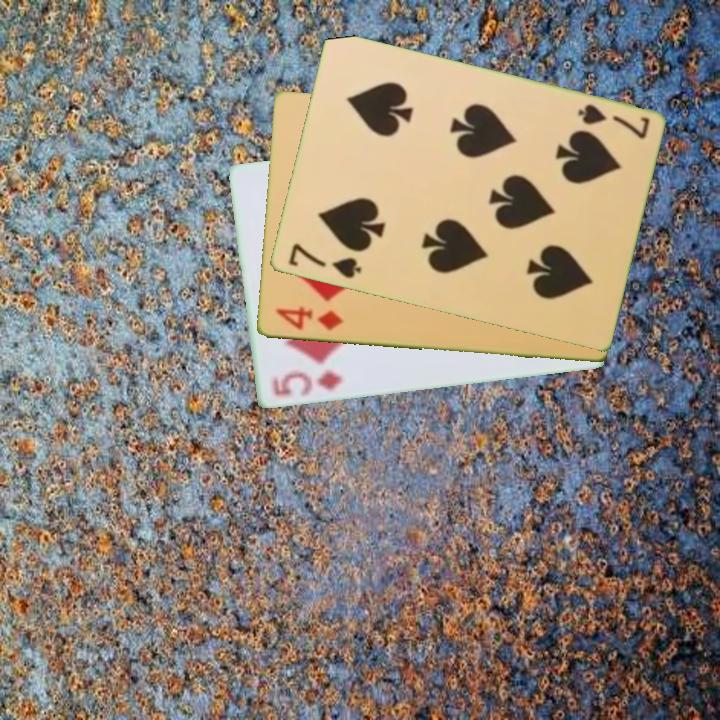4d: (272, 303, 346, 334)
5d: (269, 367, 345, 400)
7s: (284, 240, 364, 282), (573, 100, 652, 142)
